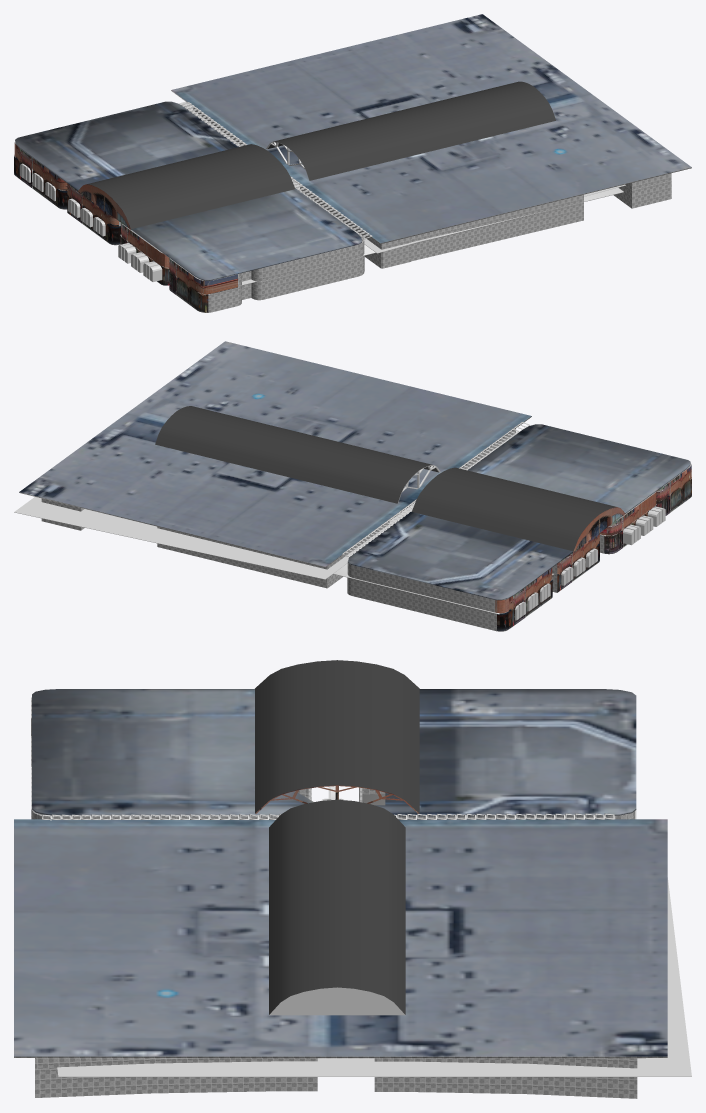
The model's file is kauppakeskus duo2.fbx.
3 renders of one model, top to bottom at view 1: azimuth 30°, elevation 25°; view 2: azimuth 150°, elevation 25°; view 3: azimuth 270°, elevation 25°, orthographic. The views are drawn at different scales.
Visible parts, largest first — view 1: Cube, katto, Cylinder.002, Cylinder.001, Plane, ker2, Plane.002, Cube.001, Plane.003; view 2: Cube, katto, Cylinder.002, Cylinder.001, Plane, ker2, Cube.001, Plane.002; view 3: Cube, katto, Cylinder.002, Cylinder.001, Cube.001, Plane, ker2, Plane.002.
Part boxes in pixels (x1,y1,x2,y2): Cube: [171, 14, 691, 243]; katto: [15, 101, 361, 280]; Cylinder.002: [266, 81, 555, 180]; Cylinder.001: [78, 144, 295, 230]; Plane: [14, 154, 671, 312]; ker2: [14, 108, 671, 294]; Plane.002: [181, 102, 372, 239]; Cube.001: [178, 101, 625, 253]; Plane.003: [241, 187, 623, 285]; Cube: [19, 341, 531, 567]; katto: [348, 424, 690, 600]; Cylinder.002: [155, 406, 440, 503]; Cylinder.001: [412, 467, 625, 552]; Plane: [41, 477, 691, 631]; ker2: [157, 429, 691, 613]; Cube.001: [14, 431, 518, 579]; Plane.002: [342, 422, 529, 557]; Cube: [14, 819, 667, 1058]; katto: [32, 689, 636, 816]; Cylinder.002: [269, 799, 405, 1015]; Cylinder.001: [255, 660, 419, 813]; Cube.001: [57, 877, 691, 1076]; Plane: [31, 738, 637, 1098]; ker2: [31, 697, 634, 1069]; Plane.002: [42, 813, 614, 820].
Size of the model in its own units: 36912 by 3678 by 28142.
